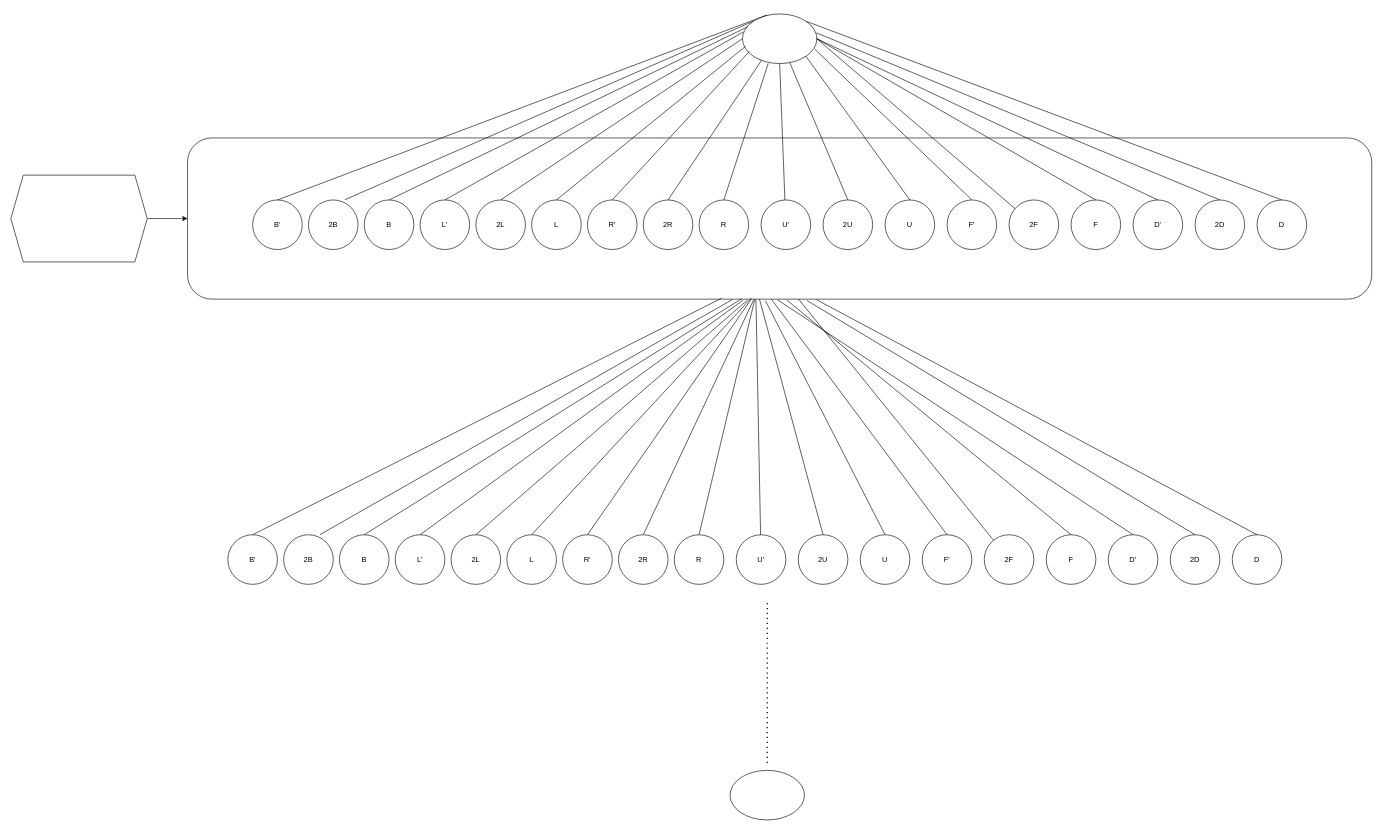
The diagram is 1383 pixels wide and 833 high, and some of its shapes have lost their labels. Here are the shapes that lost their labels. From the top down, the centre of each, then its label:
At [779,38]: "Initial State".
At [78,218]: "1η Σχέση Initial State".
At [766,795]: "Goal State".
